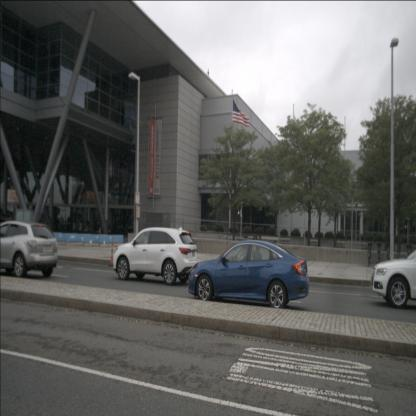movable_object-trafficcone: (108, 236, 116, 266)
vehicle-car: (188, 240, 310, 309), (113, 226, 198, 286), (0, 220, 58, 278), (370, 249, 416, 309)
